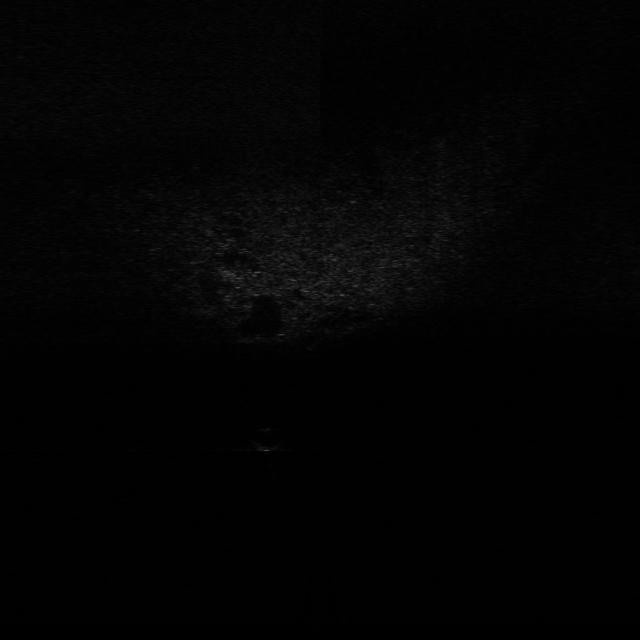ball: (250, 422, 290, 453)
